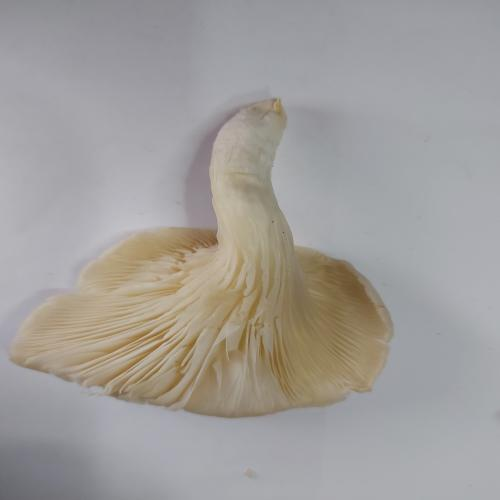Oyster Mushroom: (8, 96, 395, 418)
